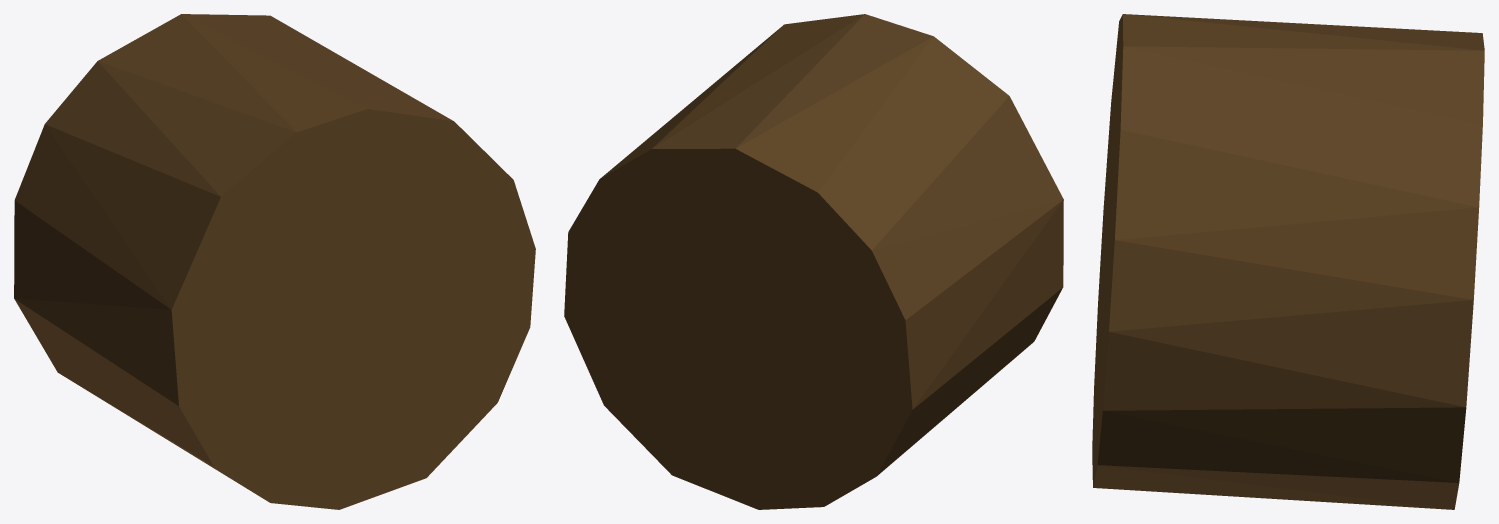
Rendered from left_elbow_x_link_visual_10.obj.
The picture shows the model from 3 angles, left to right: view 1: azimuth 30°, elevation 25°; view 2: azimuth 150°, elevation 25°; view 3: azimuth 270°, elevation 25°; orthographic projection. The views are drawn at different scales.
Visible parts, largest first — view 1: i01.left.bicep.full.011_visual.001; view 2: i01.left.bicep.full.011_visual.001; view 3: i01.left.bicep.full.011_visual.001.
Part boxes in pixels (<box>): i01.left.bicep.full.011_visual.001: <box>14,14,535,509</box>; i01.left.bicep.full.011_visual.001: <box>564,14,1063,509</box>; i01.left.bicep.full.011_visual.001: <box>1092,14,1484,509</box>.
Size of the model in its own units: 0.0712 by 0.075 by 0.0592.
